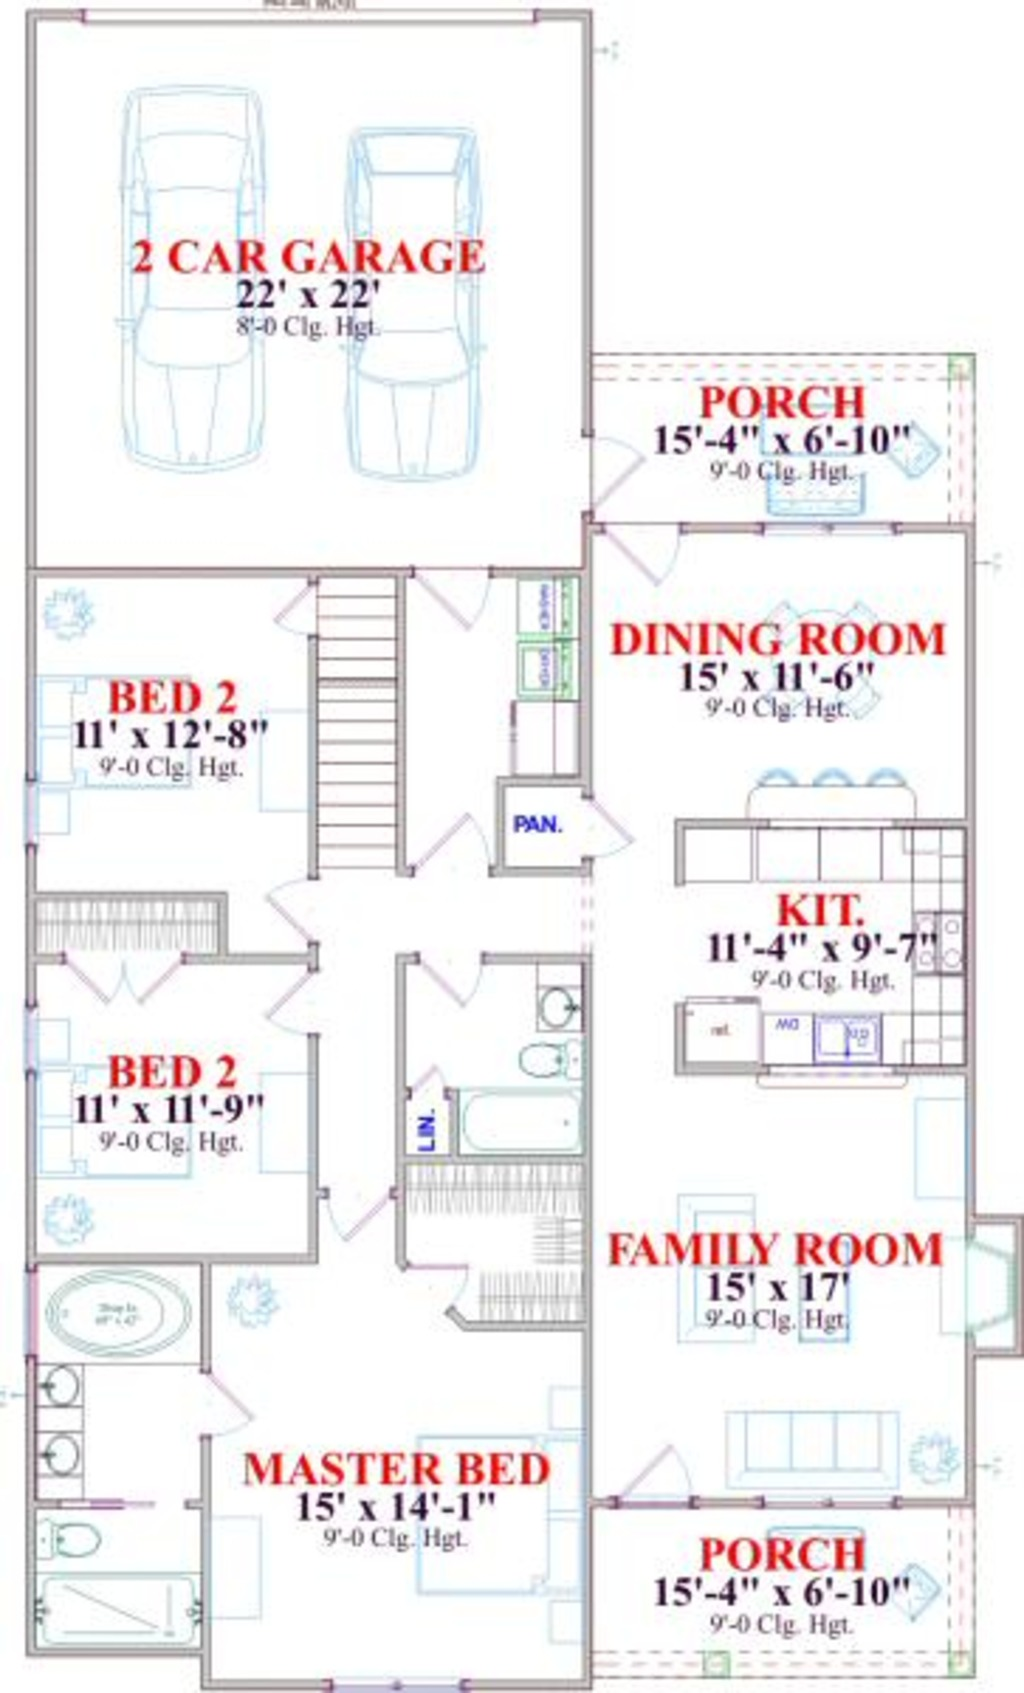bed: (25, 648, 243, 795), (23, 1053, 210, 1175)
door: (602, 1431, 702, 1522), (56, 943, 193, 1010), (316, 1161, 403, 1246), (407, 1230, 484, 1325), (192, 1364, 264, 1464), (407, 561, 505, 630), (264, 961, 332, 1059), (612, 520, 689, 593), (407, 948, 494, 1012), (417, 817, 492, 886), (264, 874, 332, 943), (592, 433, 650, 507)
kitchen_bar: (661, 753, 976, 969)
large_sink: (25, 1502, 117, 1571), (517, 1042, 597, 1087)
large_sofa: (661, 1171, 776, 1351), (733, 1400, 925, 1507)
round_table: (717, 602, 897, 735)
small_sink: (37, 1364, 94, 1492), (517, 943, 594, 1035)
stairs: (312, 576, 407, 869)
tub: (46, 1564, 202, 1648), (461, 1074, 589, 1158)
twin_sink: (799, 1005, 906, 1067)
window: (330, 1659, 474, 1693)
